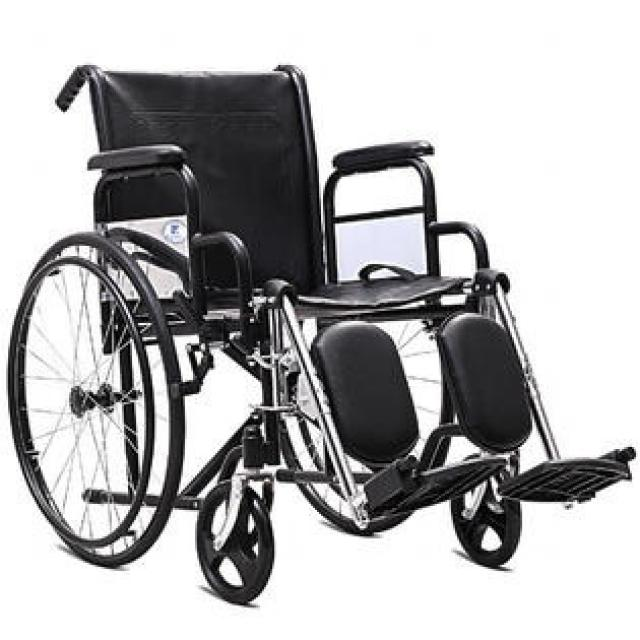wheelchair: (0, 53, 640, 622)
